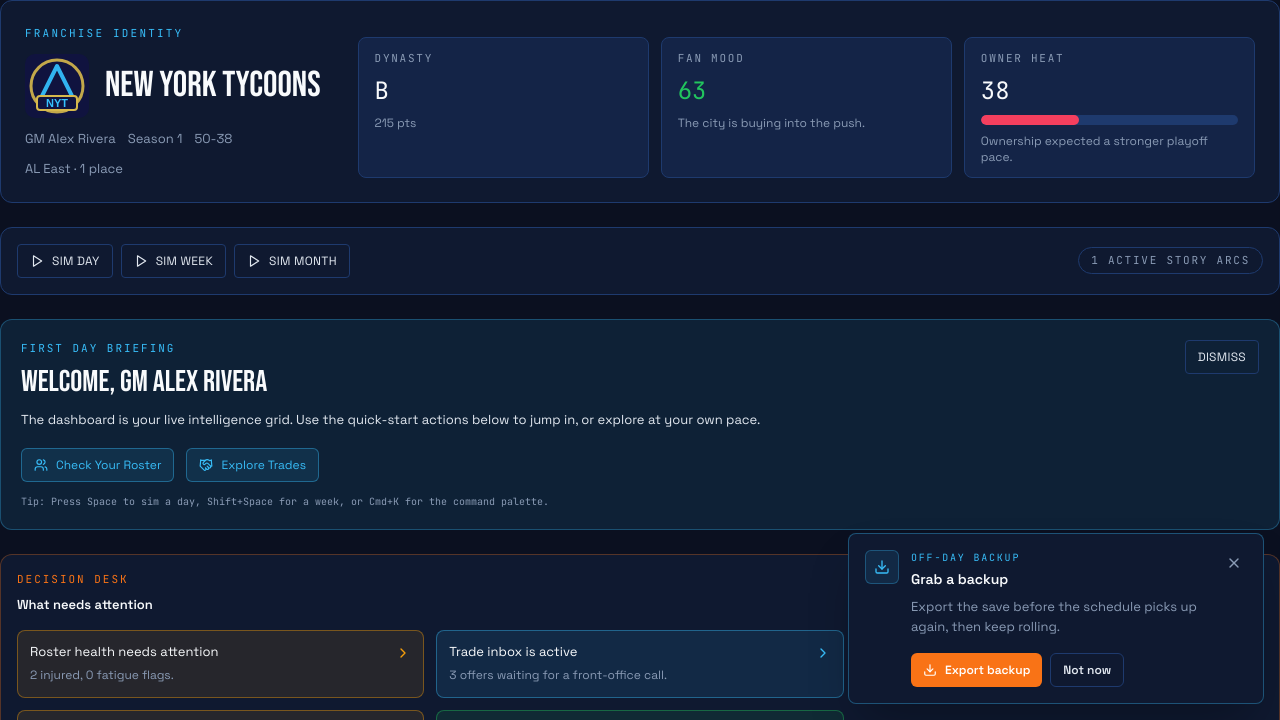
Test: DashboardPage › shows the first off-day autosave prompt and exports through the save export path
This screenshot has width=1280, height=720.
Step 1. Click the button "Export backup" → (977, 670), box [911,653,1042,687]
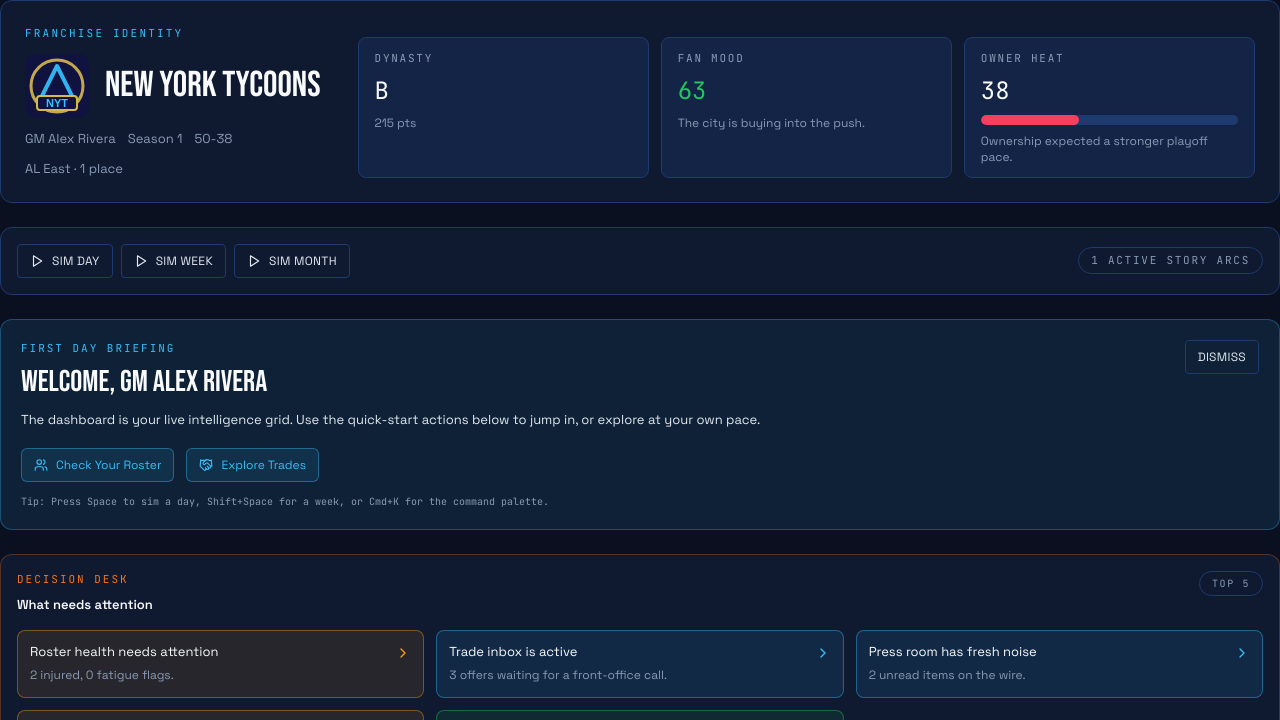
Expected: the text "Grab a backup" is gone
